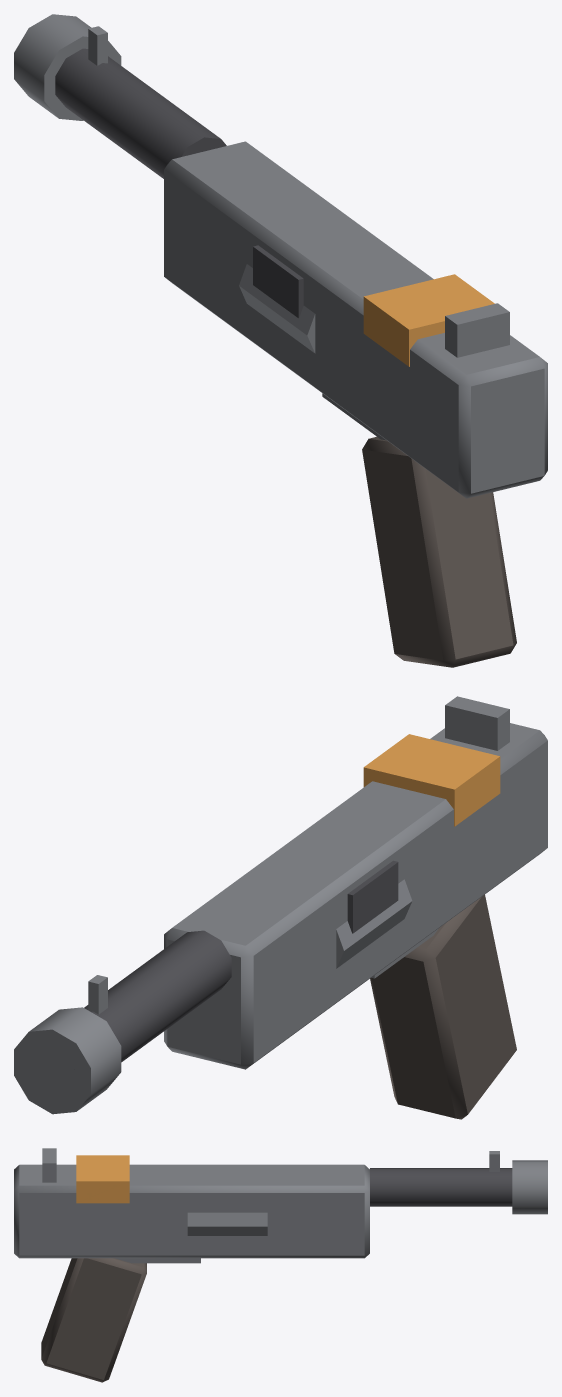
The model's file is warden.glb.
3 views of the same model, one above another, from view 1: azimuth 30°, elevation 25°; view 2: azimuth 150°, elevation 25°; view 3: azimuth 270°, elevation 25° (orthographic). The views are drawn at different scales.
Parts seen in each view (by area): view 1: wpn_warden; view 2: wpn_warden; view 3: wpn_warden.
Boxes of the visible parts, box(x1,y1,x2,y2) form: wpn_warden: box(14, 14, 547, 667); wpn_warden: box(14, 696, 547, 1119); wpn_warden: box(14, 1148, 547, 1382).
Size of what is drawn, in the model's own units: 0.04 by 0.1374 by 0.3.
